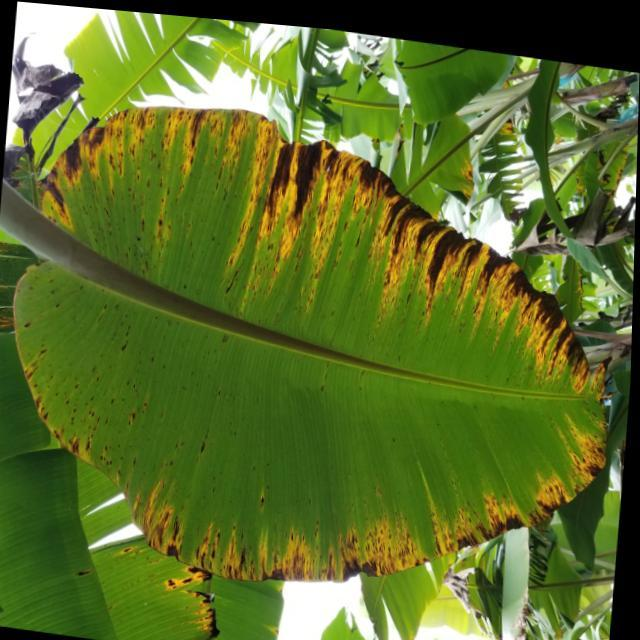Early_rust: (11, 86, 613, 589), (140, 537, 239, 640)
